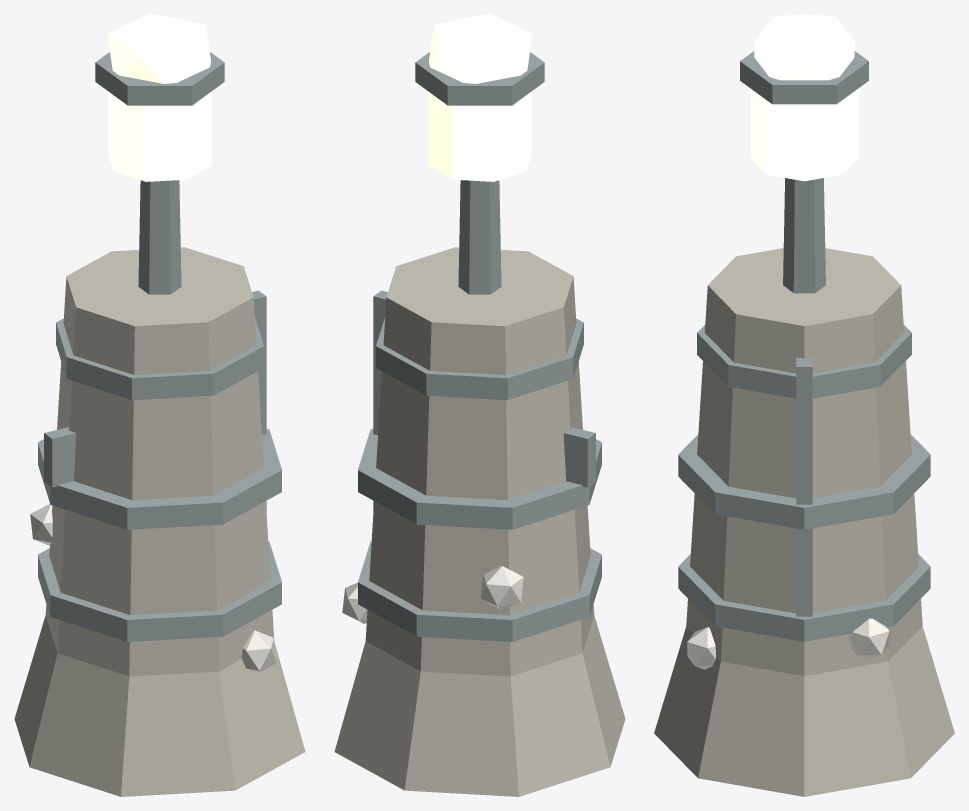
The model's file is saltglass_beacon.glb.
3 views of the same model, side by side, from view 1: azimuth 30°, elevation 25°; view 2: azimuth 150°, elevation 25°; view 3: azimuth 270°, elevation 25° (orthographic).
Parts seen in each view (by area): view 1: saltglass_beacon; view 2: saltglass_beacon; view 3: saltglass_beacon.
Boxes of the visible parts, box(x1,y1,x2,y2) form: saltglass_beacon: box(14, 14, 305, 796); saltglass_beacon: box(334, 14, 625, 796); saltglass_beacon: box(654, 14, 954, 796).
Bounding box in the file's own units: 0.56 × 1.48 × 0.56.
